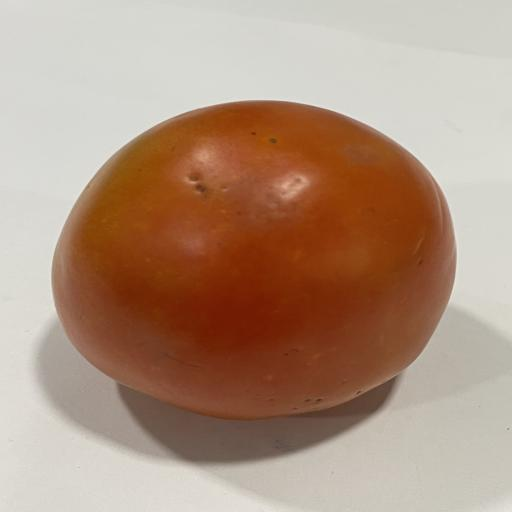unripe: (52, 101, 456, 419)
